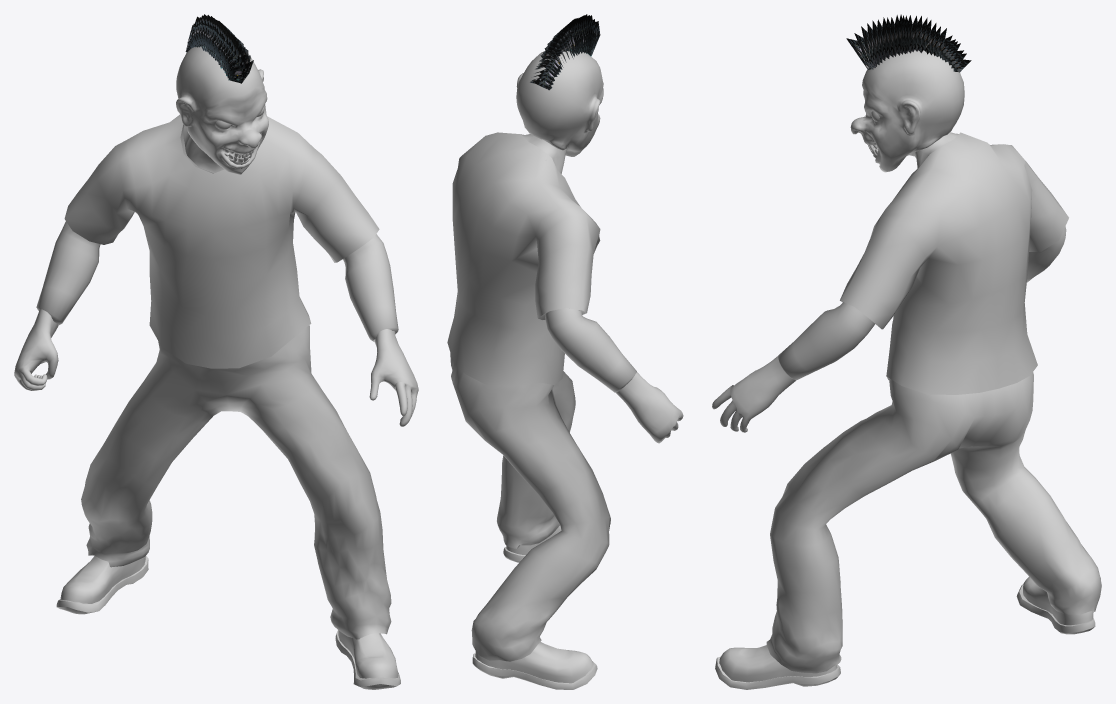
The model's file is Hit (46).obj.
3 views of the same model, side by side, from view 1: azimuth 30°, elevation 25°; view 2: azimuth 150°, elevation 25°; view 3: azimuth 270°, elevation 25° (orthographic). The views are drawn at different scales.
Visible parts, largest first — view 1: shirt, pants, head, forearm_band_002, forearm_band_01, boots, boots001, hand_left, Hair, hand_right, neck; view 2: shirt, pants, head, forearm_band_01, boots, hand_right, Hair, neck, boots001; view 3: pants, shirt, head, forearm_band_002, Hair, boots001, hand_left, boots, forearm_band_01.
Boxes of the visible parts, box(x1,y1,x2,y2) form: shirt: box(64, 114, 379, 368); pants: box(81, 325, 391, 639); head: box(176, 46, 268, 174); forearm_band_002: box(343, 234, 398, 342); forearm_band_01: box(36, 221, 100, 325); boots: box(56, 555, 148, 614); boots001: box(335, 630, 400, 689); hand_left: box(369, 329, 418, 426); Hair: box(185, 14, 253, 83); hand_right: box(14, 309, 58, 390); neck: box(183, 126, 224, 173); shirt: box(447, 132, 600, 386); pants: box(450, 353, 610, 661); head: box(516, 51, 603, 156); forearm_band_01: box(545, 308, 636, 392); boots: box(472, 642, 597, 689); hand_right: box(616, 372, 683, 443); Hair: box(530, 14, 600, 90); neck: box(522, 134, 567, 173); boots001: box(503, 525, 561, 562); pants: box(766, 372, 1101, 673); shirt: box(840, 132, 1068, 394); head: box(850, 50, 964, 172); forearm_band_002: box(778, 302, 874, 380); Hair: box(846, 14, 971, 72); boots001: box(715, 645, 840, 689); hand_left: box(712, 355, 795, 432); boots: box(1016, 577, 1095, 634); forearm_band_01: box(1027, 226, 1066, 282).
Size of the model in its own units: 87.51 by 176 by 98.96.
